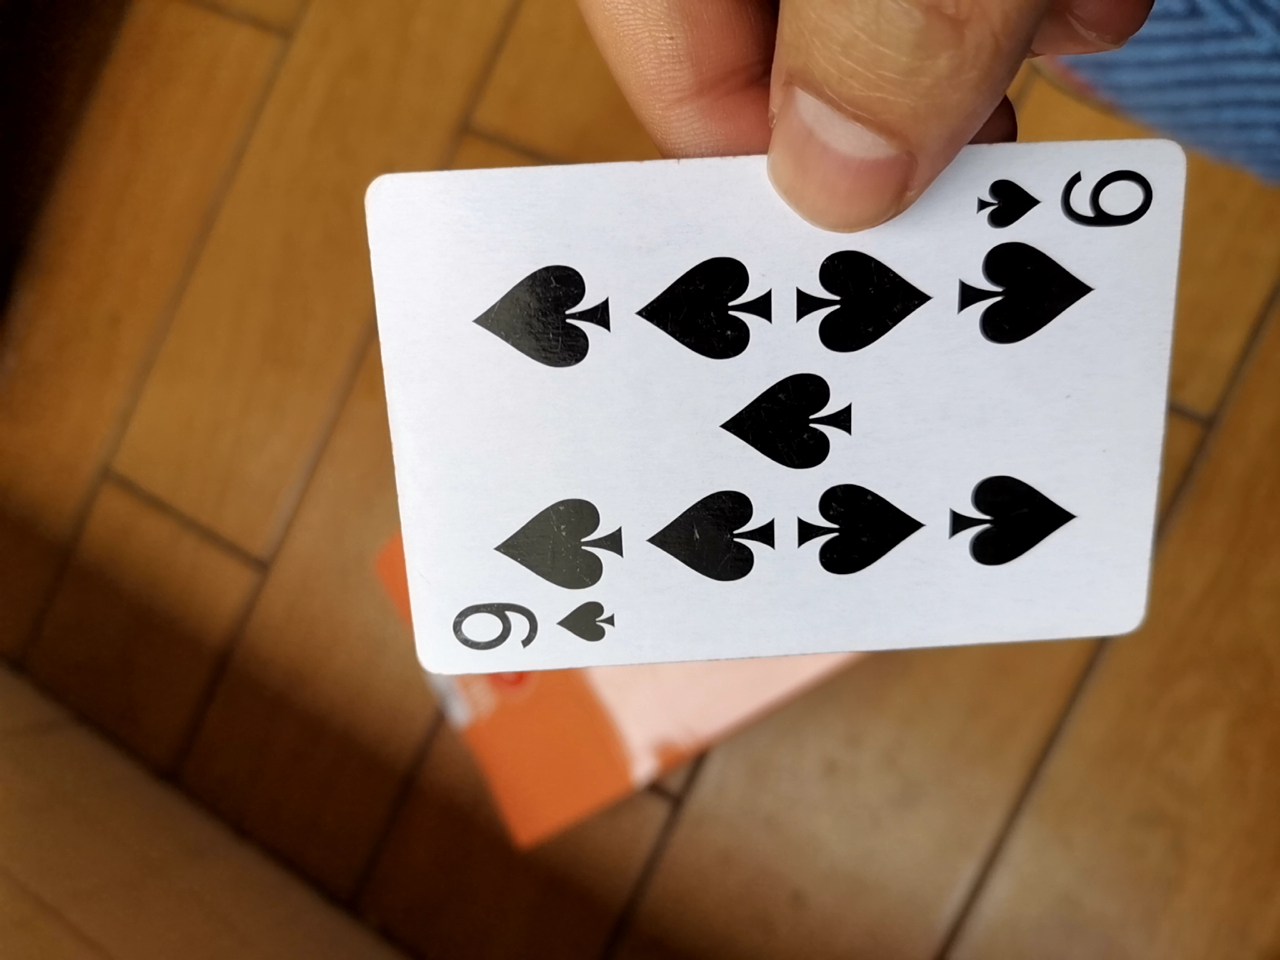ht 9: (352, 149, 1181, 695)
